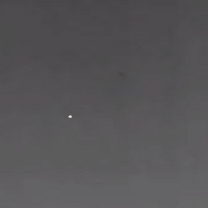Target: (67, 115, 74, 119)
